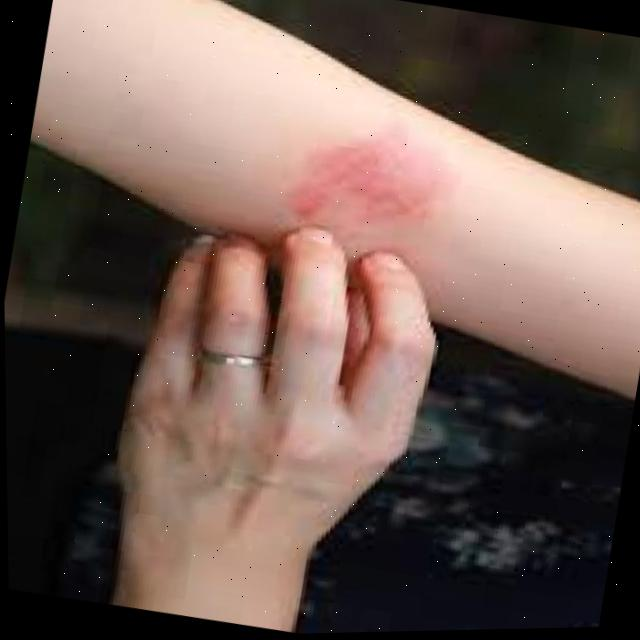Eczema: (286, 108, 461, 251)
